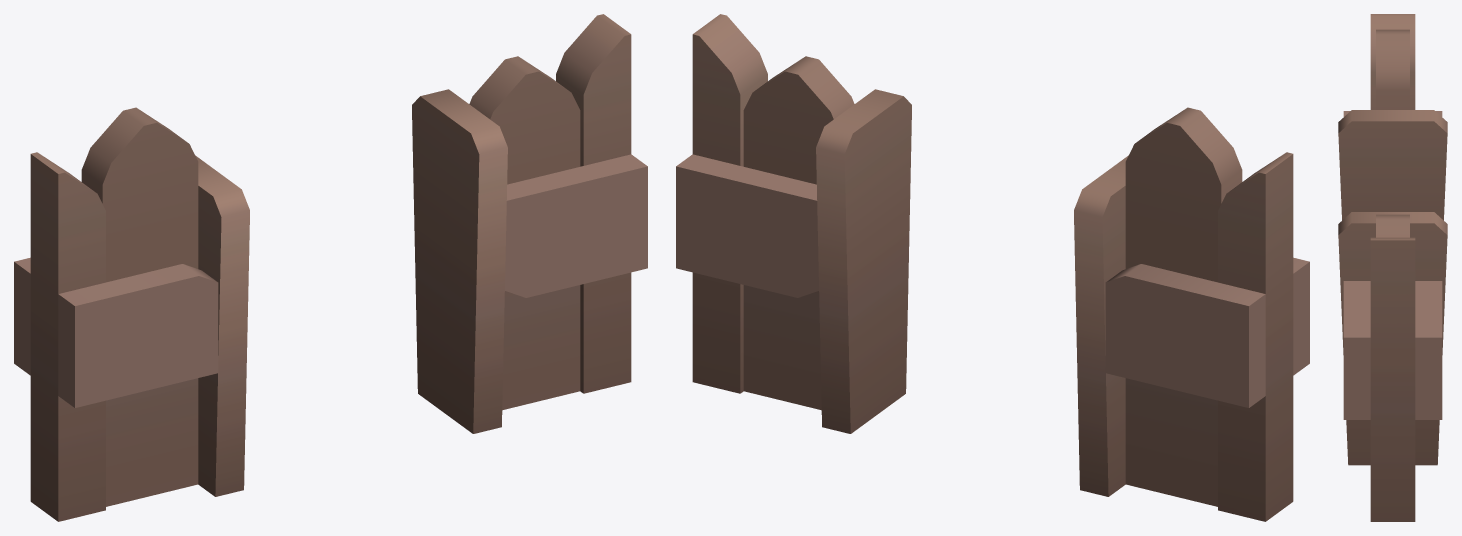
File: fence-gate.glb
3 renders of one model, left to right at view 1: azimuth 30°, elevation 25°; view 2: azimuth 150°, elevation 25°; view 3: azimuth 270°, elevation 25°, orthographic. The views are drawn at different scales.
Visible parts, largest first — view 1: fence-gate; view 2: fence-gate; view 3: fence-gate.
Part boxes in pixels (box(x1,y1,x2,y2)): fence-gate: box(14, 14, 647, 521); fence-gate: box(676, 14, 1309, 521); fence-gate: box(1338, 14, 1447, 521).
Size of the model in its own units: 1.5 by 0.9301 by 0.306.
Materials: 1 (1 with a texture image).
